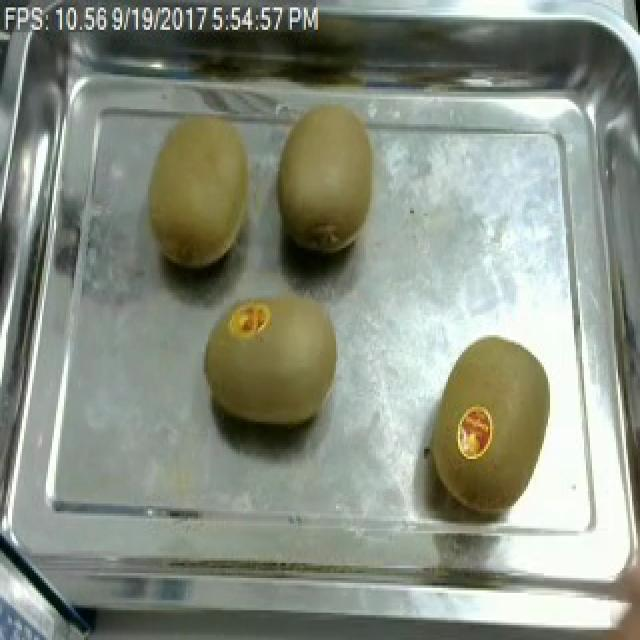Fruit: (420, 330, 562, 518), (194, 280, 346, 437), (138, 109, 262, 280), (268, 94, 384, 266)
